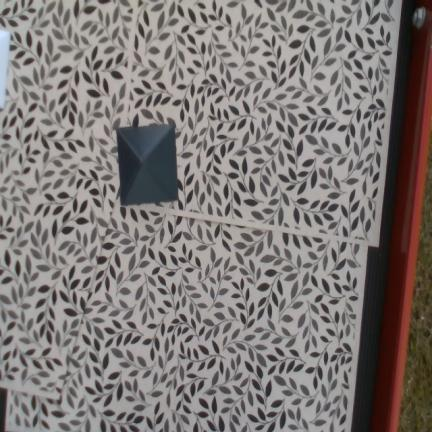Piramide: (117, 123, 178, 206), (0, 30, 10, 108)
